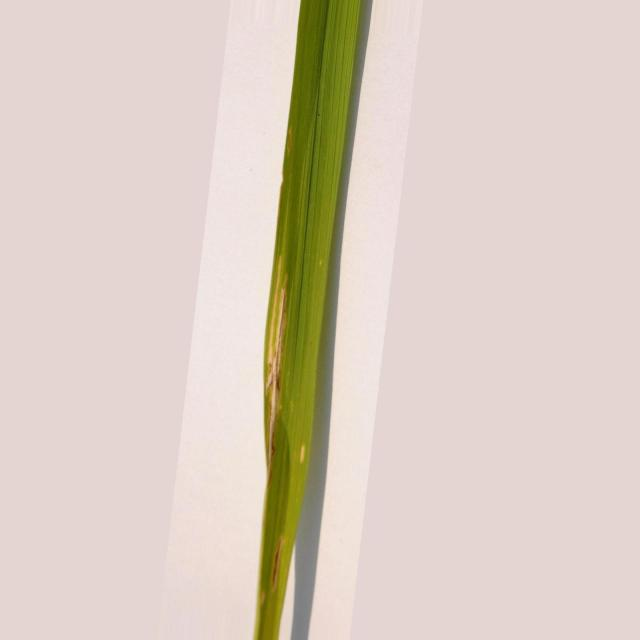Bacterial_Leaf_Blight: (265, 255, 286, 469), (271, 535, 284, 584), (286, 126, 292, 153), (300, 444, 305, 463), (284, 274, 288, 284), (318, 259, 323, 267)
